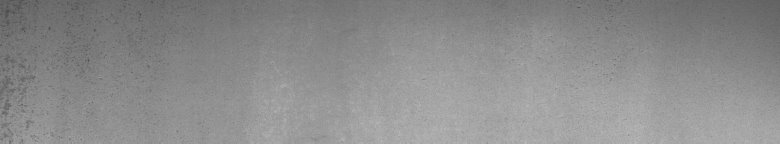ib: (4, 4, 141, 136)
